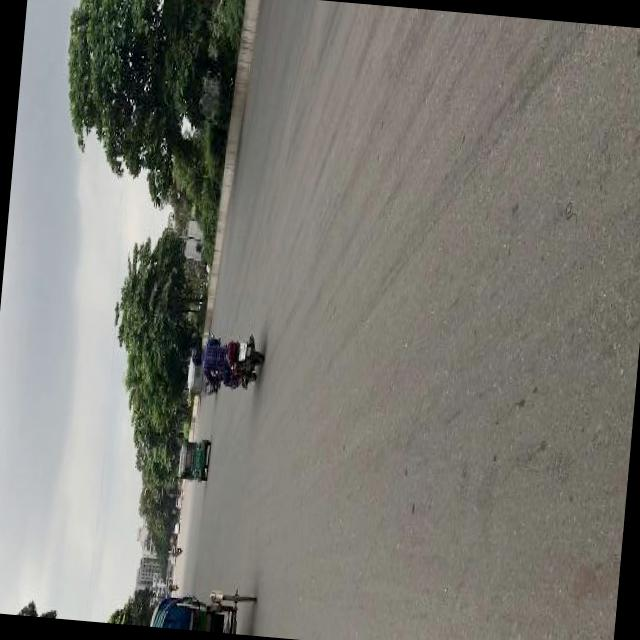car: (173, 524, 179, 534), (168, 557, 174, 566)
motorcycle: (148, 590, 258, 636), (205, 332, 265, 399), (177, 436, 210, 484), (185, 364, 205, 397), (166, 585, 178, 593), (170, 546, 182, 554)
truck: (173, 496, 181, 511)
